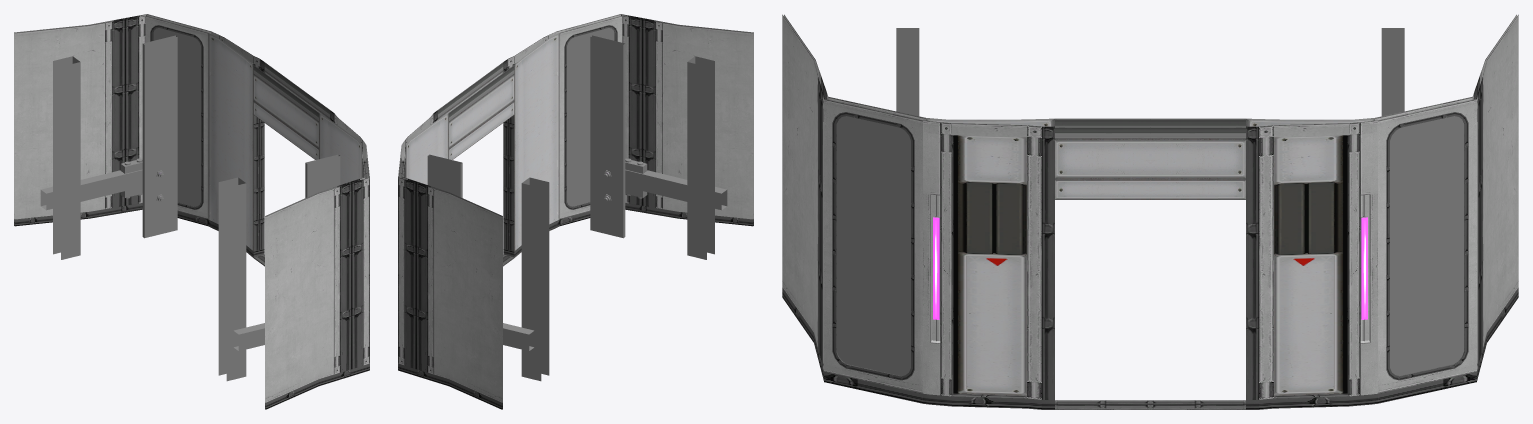
Rendered from Pre_Elevator_entb.FBX.
3 renders of one model, left to right at view 1: azimuth 30°, elevation 25°; view 2: azimuth 150°, elevation 25°; view 3: azimuth 270°, elevation 25°, orthographic. The views are drawn at different scales.
Parts seen in each view (by area): view 1: Pre_Elevator_entb; view 2: Pre_Elevator_entb; view 3: Pre_Elevator_entb.
Part boxes in pixels (x1=…): Pre_Elevator_entb: x1=14, y1=14, x2=369, y2=409; Pre_Elevator_entb: x1=398, y1=14, x2=753, y2=409; Pre_Elevator_entb: x1=782, y1=14, x2=1518, y2=409.
Bounding box in the file's own units: 3.41 × 4 × 9.43.
